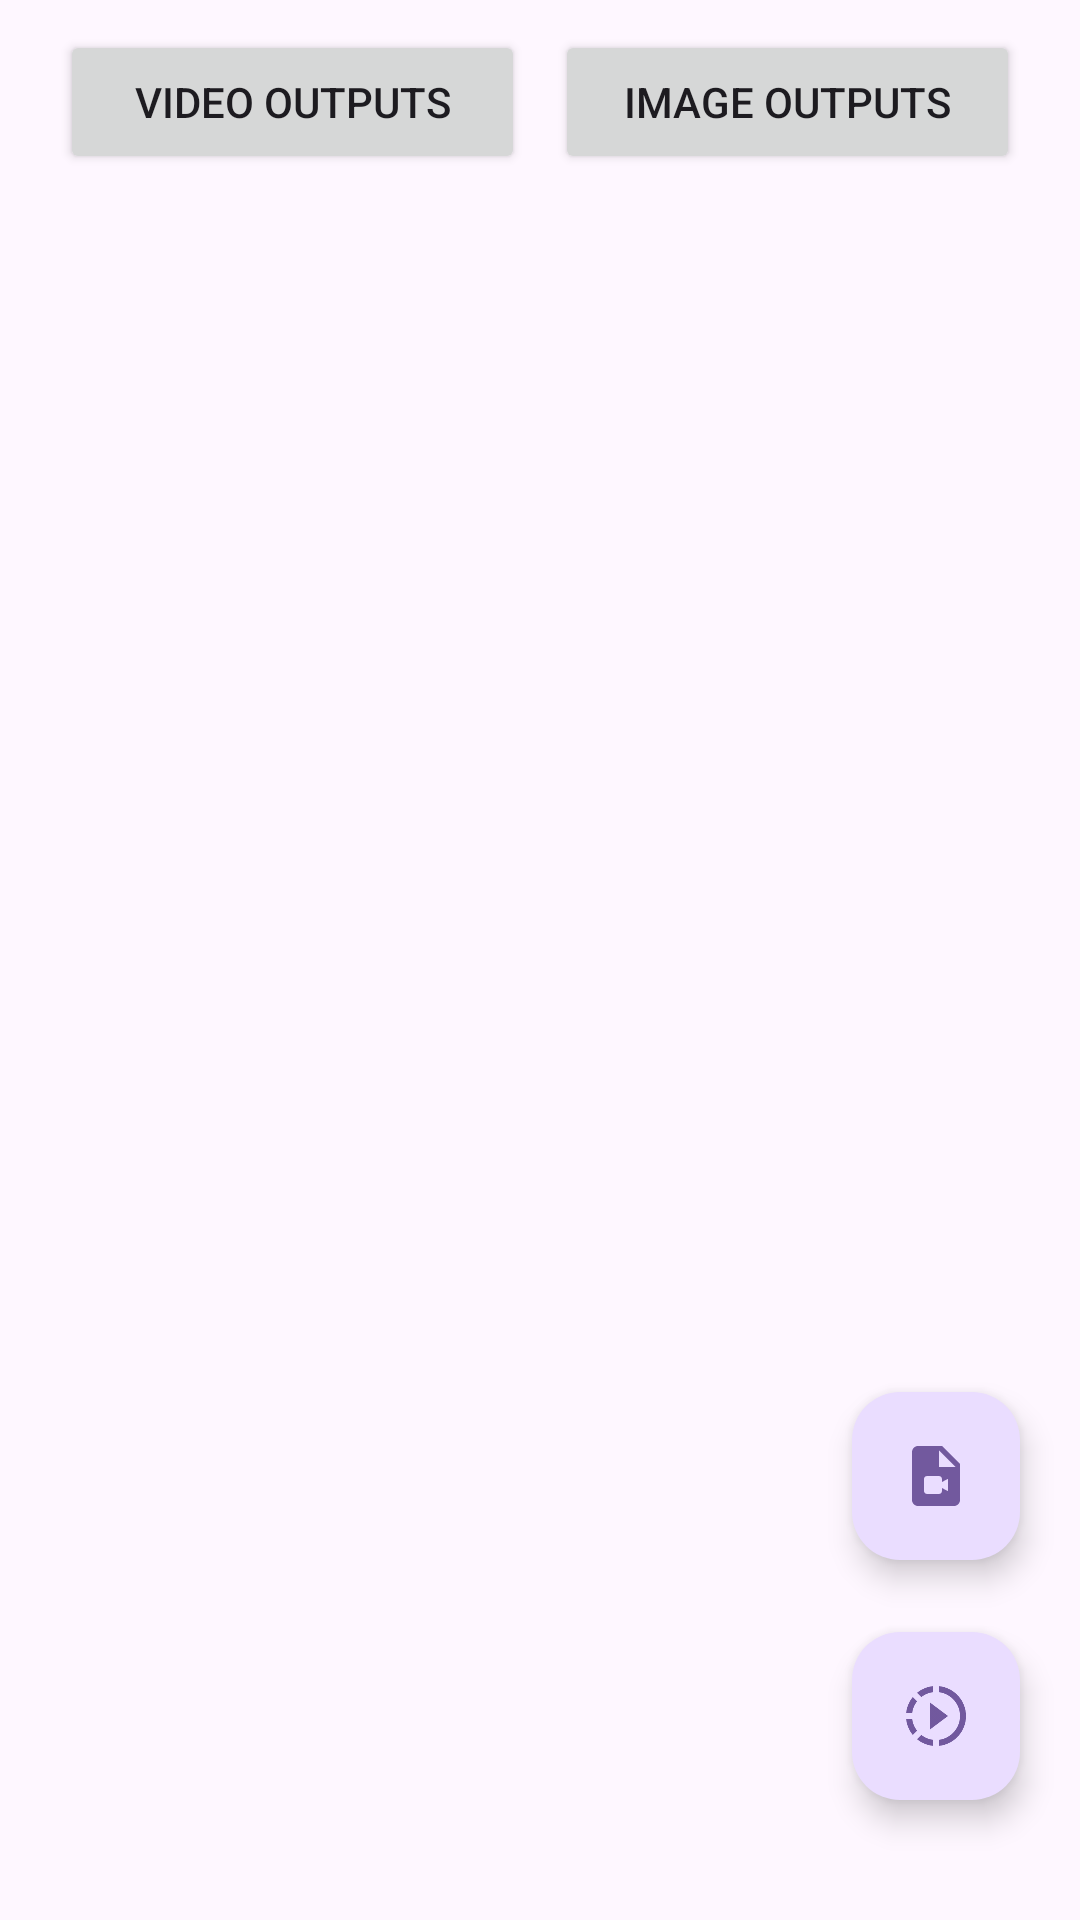

Icon click points for this 1080 × 1920 phone screenshot, format [x,y]:
Transcoder: [936,1476]
